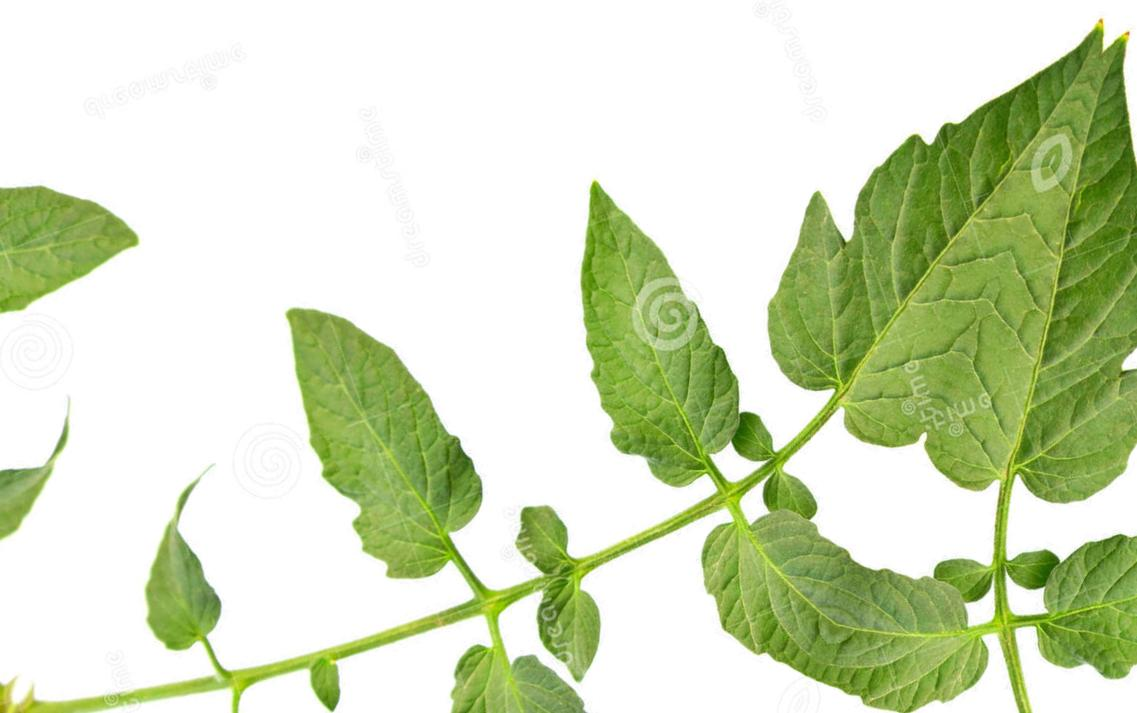Tomato leaf: (710, 0, 1122, 452), (148, 234, 579, 663), (479, 144, 841, 504), (626, 401, 907, 713), (86, 445, 306, 680), (356, 606, 737, 713), (169, 699, 387, 713)
